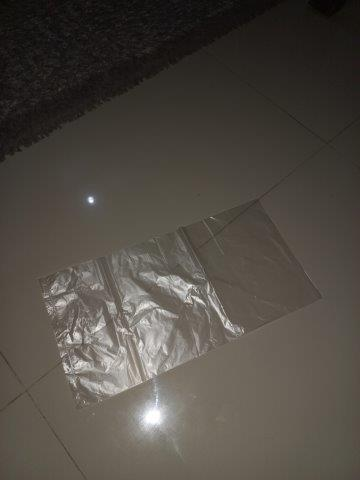plastik: (38, 198, 323, 407)
